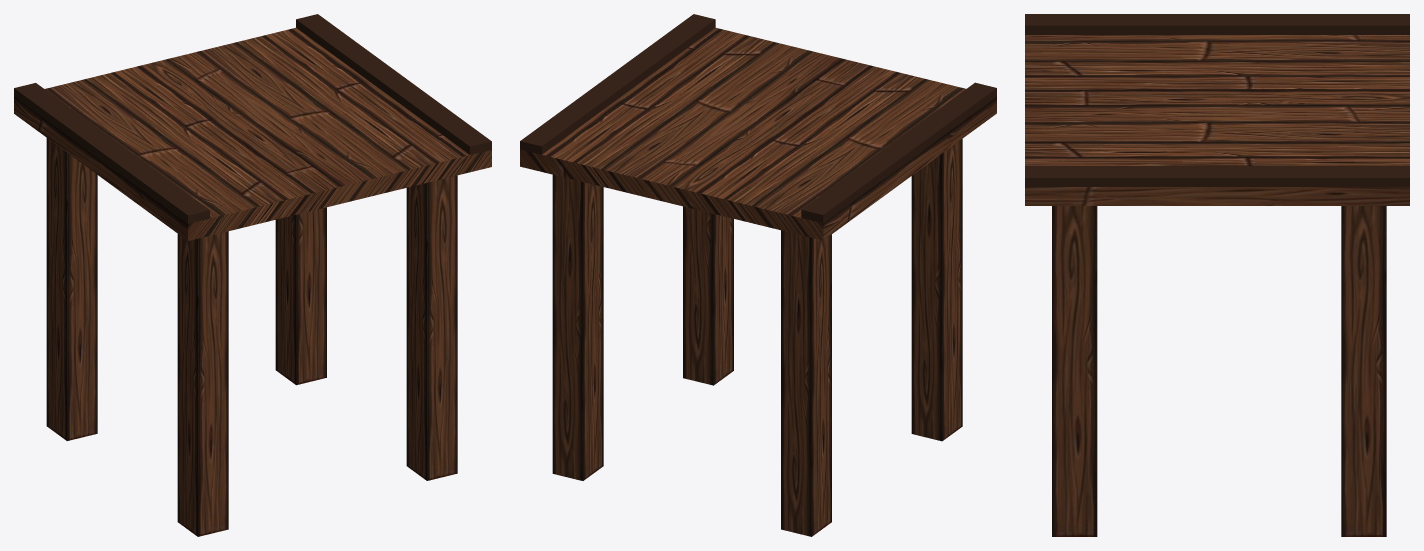
File: Harbor Floor 1.fbx
The picture shows the model from 3 angles, left to right: view 1: azimuth 30°, elevation 25°; view 2: azimuth 150°, elevation 25°; view 3: azimuth 270°, elevation 25°; orthographic projection. The views are drawn at different scales.
Visible parts, largest first — view 1: polySurface7; view 2: polySurface7; view 3: polySurface7.
Boxes of the visible parts, left/top/right/bottom form: polySurface7: left=14, top=14, right=491, bottom=536; polySurface7: left=520, top=14, right=996, bottom=536; polySurface7: left=1025, top=14, right=1409, bottom=536.
Size of the model in its own units: 6.05 by 6.39 by 6.01.
1 material, 1 textured.
